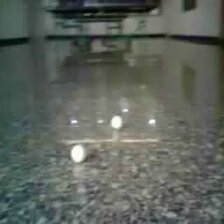w: (71, 144, 86, 162), (110, 115, 122, 129)
